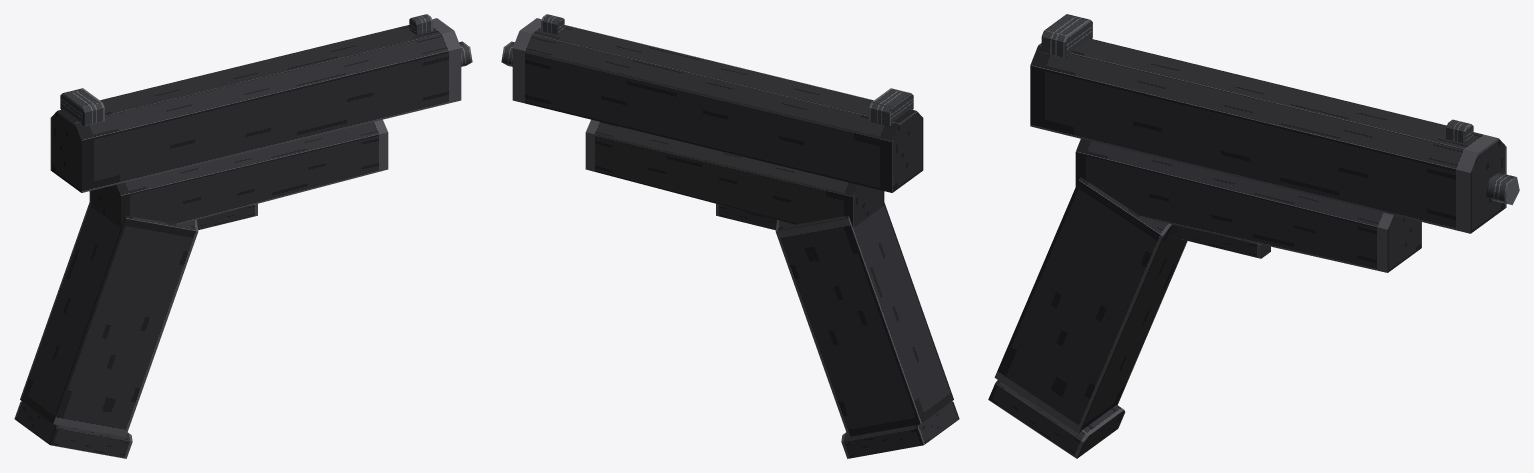
The model's file is Glock.glb.
3 renders of one model, left to right at view 1: azimuth 30°, elevation 25°; view 2: azimuth 150°, elevation 25°; view 3: azimuth 330°, elevation 25°, orthographic. The views are drawn at different scales.
Visible parts, largest first — view 1: Glock; view 2: Glock; view 3: Glock.
Boxes of the visible parts, box(x1,y1,x2,y2) form: Glock: box(14, 14, 472, 458); Glock: box(501, 14, 959, 458); Glock: box(988, 14, 1519, 458).
Size of the model in its own units: 0.2104 by 0.1641 by 0.03.
1 material, 1 textured.
